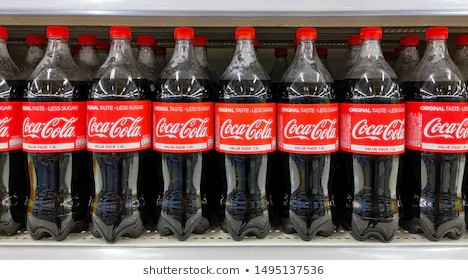coke-bottle-2l: (338, 25, 408, 243), (23, 25, 90, 238), (214, 25, 279, 241), (91, 24, 154, 238), (152, 26, 215, 238), (408, 25, 467, 243), (279, 25, 338, 240)
